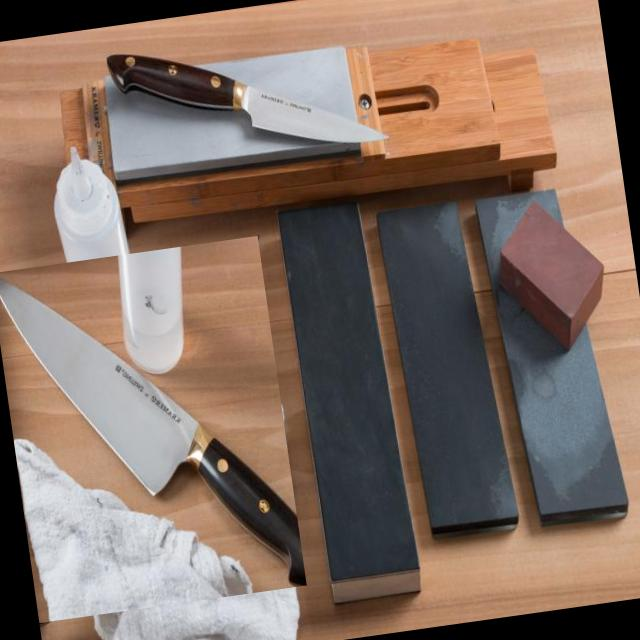Knife: (0, 278, 307, 586), (107, 55, 385, 144)
